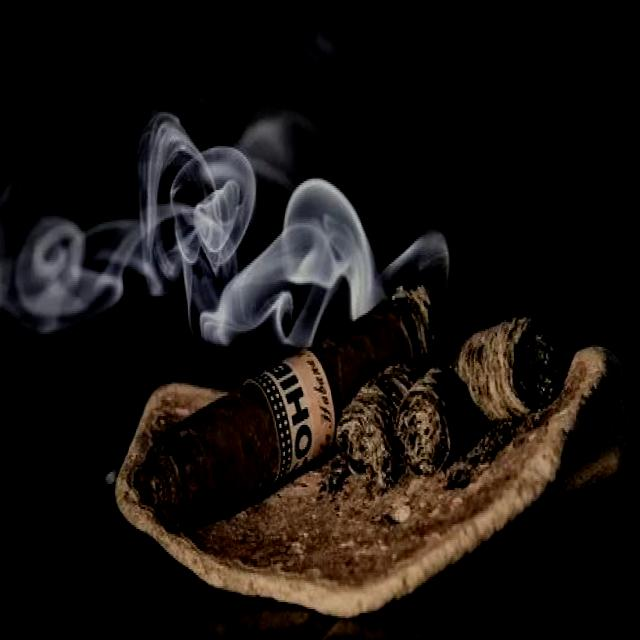cigarette: (142, 274, 436, 544)
